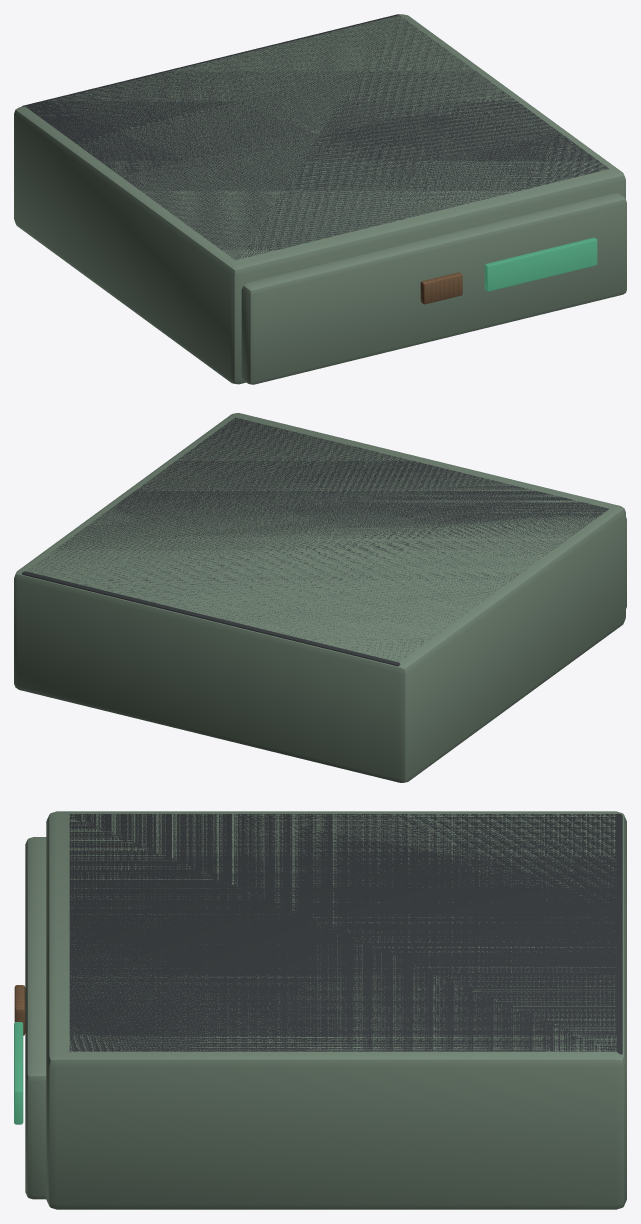
File: cash_drawer_high_end.glb
The picture shows the model from 3 angles, top to bottom: view 1: azimuth 30°, elevation 25°; view 2: azimuth 150°, elevation 25°; view 3: azimuth 270°, elevation 25°; orthographic projection. The views are drawn at different scales.
Parts seen in each view (by area): view 1: CashDrawer_Housing, CashDrawer_HousingTop, CashDrawer_Front, CashDrawer_CountDisplay, CashDrawer_Latch; view 2: CashDrawer_Housing, CashDrawer_HousingTop; view 3: CashDrawer_HousingTop, CashDrawer_Housing, CashDrawer_Front, CashDrawer_CountDisplay.
Boxes of the visible parts, x1,y1,x2,y2 form: CashDrawer_Housing: (14, 14, 625, 384); CashDrawer_HousingTop: (21, 14, 609, 260); CashDrawer_Front: (241, 193, 626, 384); CashDrawer_CountDisplay: (484, 237, 597, 291); CashDrawer_Latch: (420, 272, 462, 304); CashDrawer_Housing: (14, 413, 625, 782); CashDrawer_HousingTop: (21, 417, 609, 666); CashDrawer_HousingTop: (69, 813, 622, 1054); CashDrawer_Housing: (46, 811, 626, 1209); CashDrawer_Front: (25, 837, 46, 1199); CashDrawer_CountDisplay: (14, 1022, 23, 1124).
Size of what is drawn, in the model's own units: 0.45 by 0.13 by 0.4645.
Materials: 6 (1 with a texture image).
